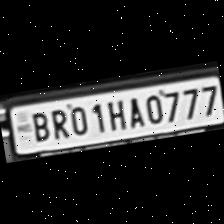0: (64, 102, 90, 138), (140, 90, 166, 126)
1: (86, 99, 107, 134)
7: (196, 82, 222, 119), (176, 84, 200, 120), (159, 87, 182, 122)
A: (123, 93, 145, 128)
B: (26, 108, 52, 143)
H: (102, 95, 128, 132)
R: (46, 104, 71, 140)
